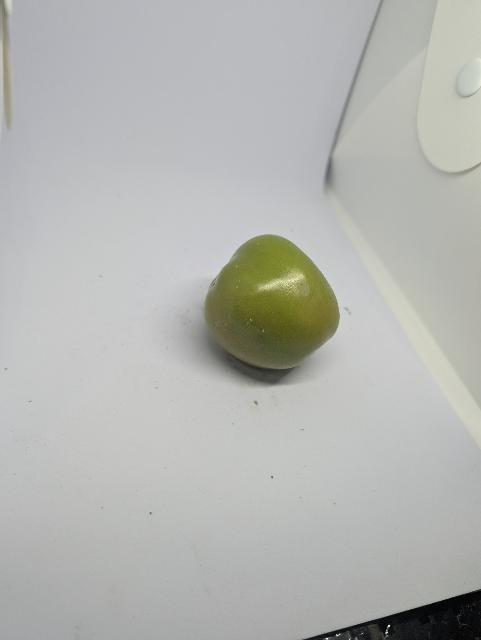green: (202, 231, 343, 373)
